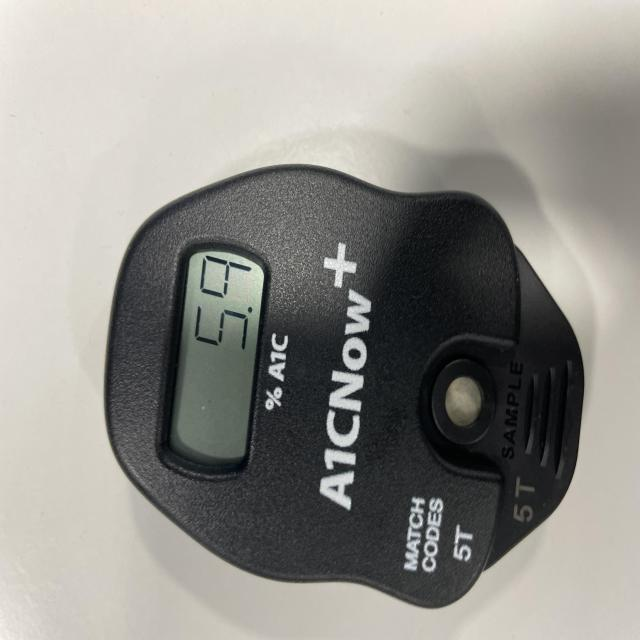hba1c: (103, 165, 587, 614)
